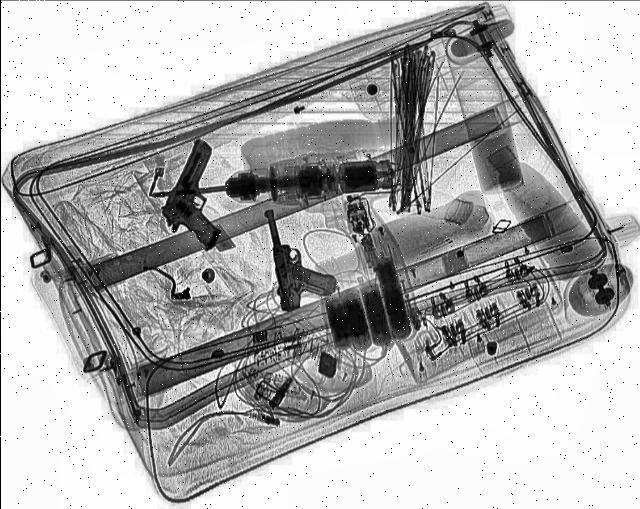Gun: (146, 142, 260, 252), (261, 204, 337, 314)
